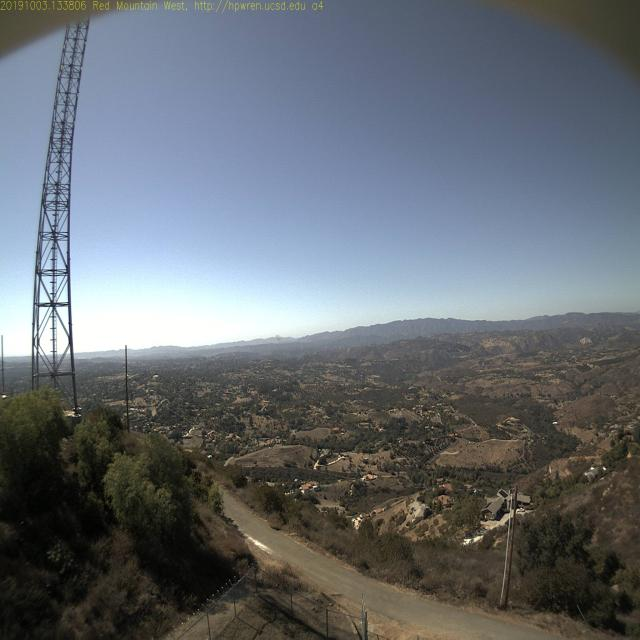smoke: (269, 327, 285, 348), (272, 329, 282, 348)
